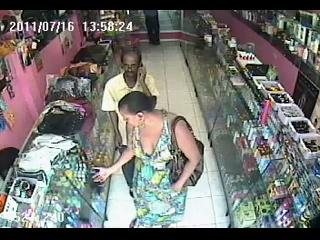Normal: (94, 92, 202, 226), (100, 50, 160, 150), (144, 10, 160, 46)
